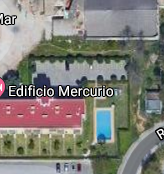pool: (95, 109, 112, 140)
